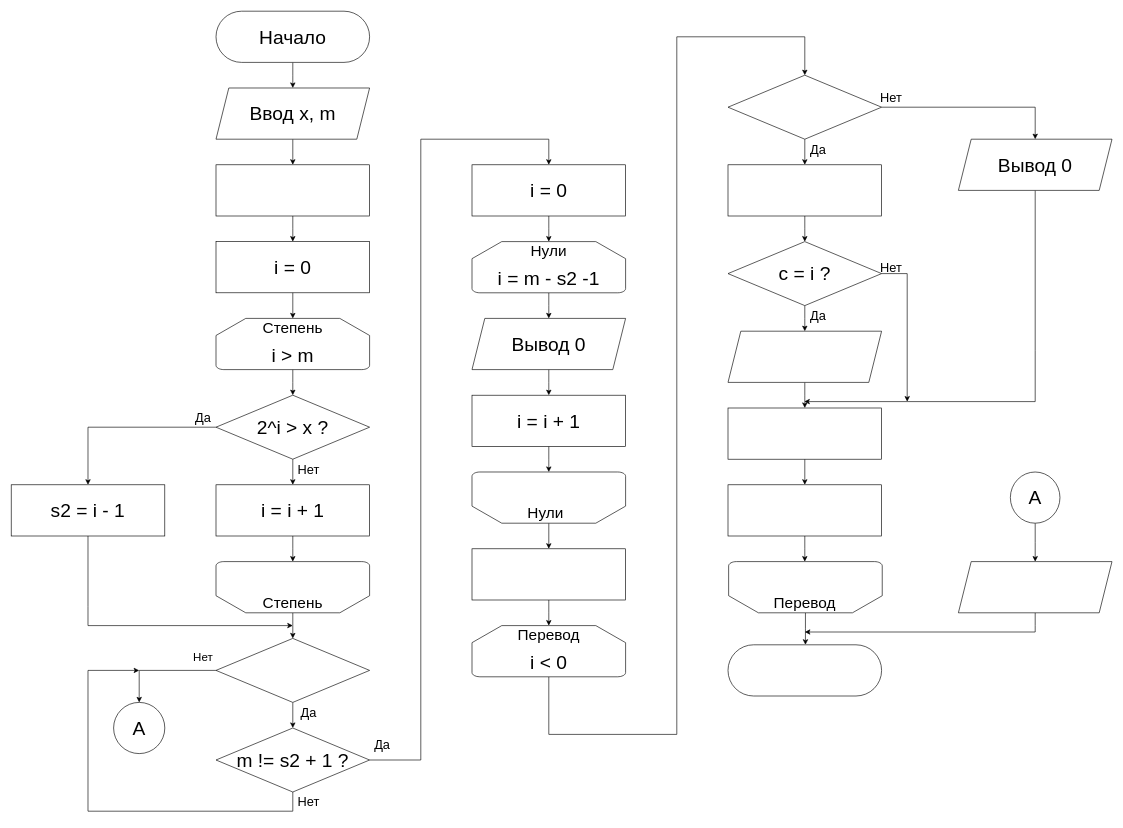
The diagram is 1123 pixels wide and 828 high, and some of its shapes have lost their labels. The shapes that lost their labels are listed below. From the top down, each one's centre as x and y in pixels, then its label:
At (x=804, y=107): "2^i <= x ?".
At (x=292, y=190): "s2 = m + 1".
At (x=804, y=190): "x = x - 2^i".
At (x=804, y=356): "Вывод 1".
At (x=804, y=433): "с = с - 1".
At (x=804, y=510): "i = i - 1".
At (x=548, y=574): "c = s2 i = s2".
At (x=1035, y=587): "Вывод ошибка".
At (x=292, y=670): "s2 <= m ?".
At (x=804, y=670): "Конец".
